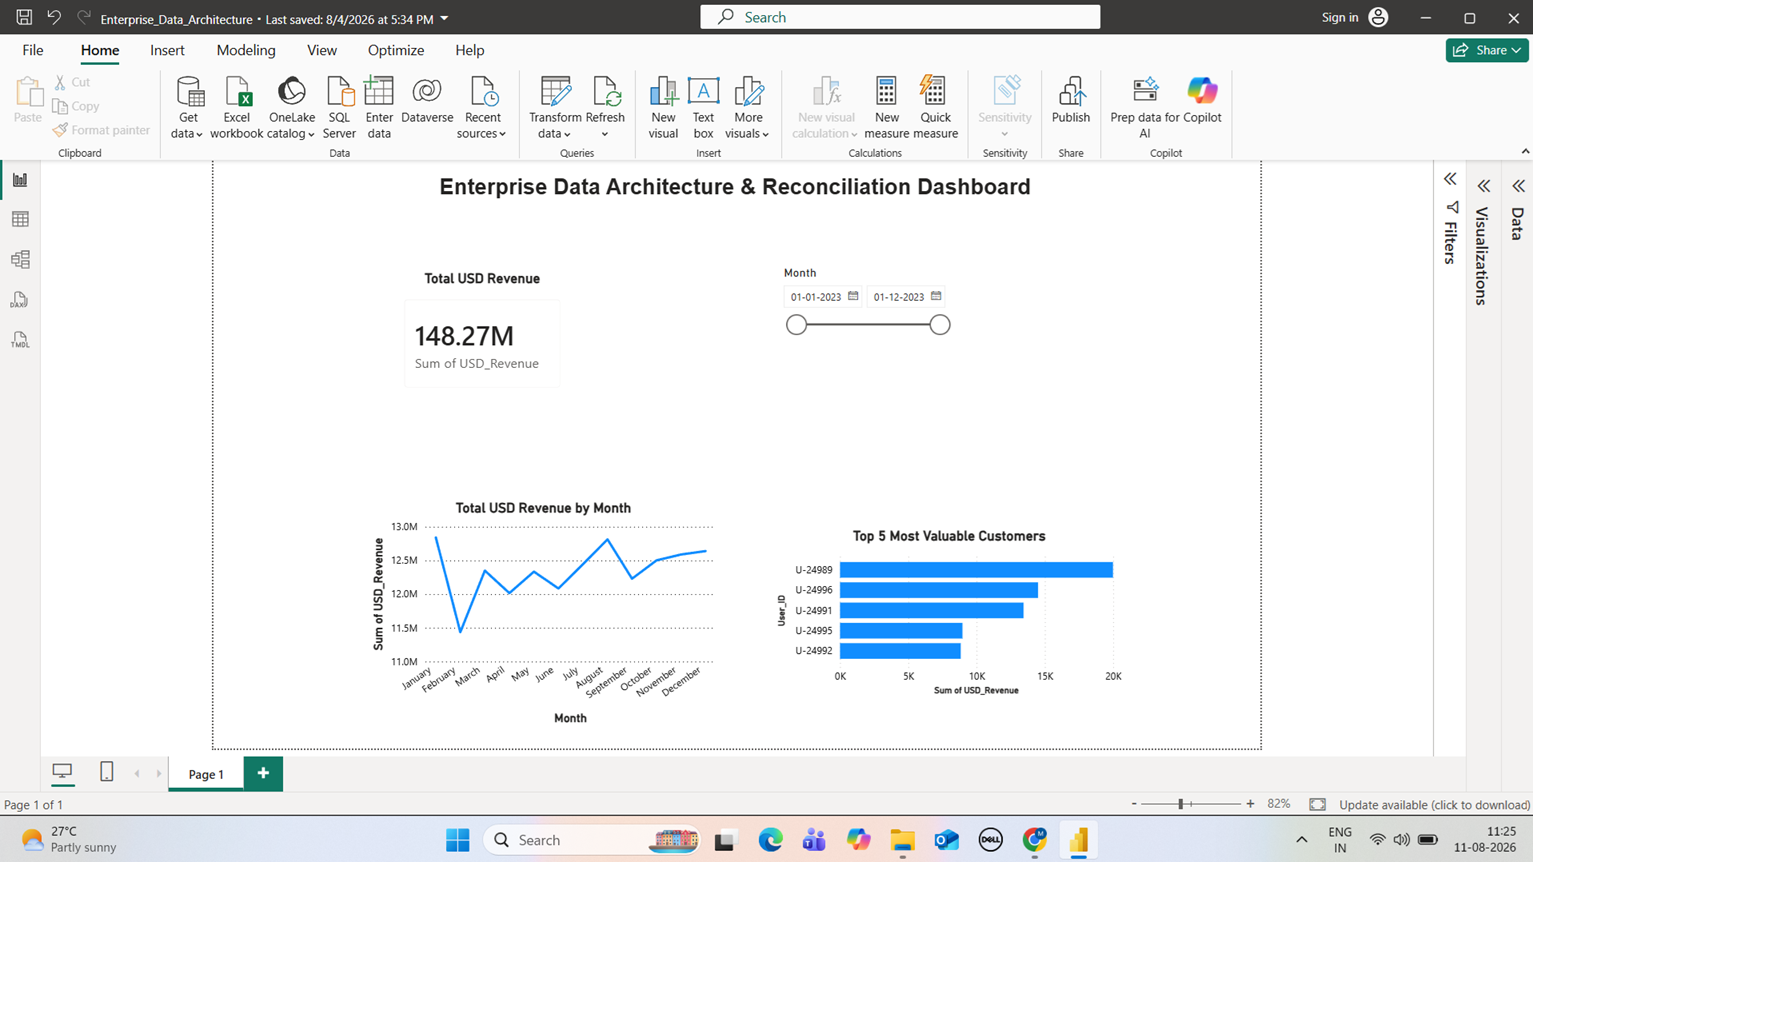

The dashboard page shown, as its layout file describes it:
{"tool":"powerbi","page":{"name":"Page 1","canvas":[1280,720],"ordinal":0},"visuals":[{"type":"cardVisual","title":"Total USD Revenue","fields":{"Data":["Sum(power_bi_ready_dataset.USD_Revenue)"]},"box":[216.8,134.5,225,161.9],"z":0},{"type":"lineChart","title":"Total USD Revenue by Month","fields":{"Category":["power_bi_ready_dataset.Month.Variation.Date Hierarchy.Month"],"Y":["Sum(power_bi_ready_dataset.USD_Revenue)"]},"box":[188,415.8,430.9,279.9],"z":1000},{"type":"clusteredBarChart","title":"Top 5 Most Valuable Customers","fields":{"Category":["power_bi_ready_dataset.User_ID"],"Y":["Sum(power_bi_ready_dataset.USD_Revenue)"]},"box":[684.7,450.1,430.9,209.9],"z":2000},{"type":"slicer","fields":{"Values":["power_bi_ready_dataset.Month"]},"box":[684.7,124.9,225,161.9],"z":3000},{"type":"textbox","box":[38.4,13.7,1200.7,111.1],"z":4000}]}

Visuals, with their boxes on the page's 1280x720 design canvas (x1, y1, x2, y2). These are canvas units, not pixel positions in the 1792x1033 screenshot, which may show the page scaled, cropped or inside an application window:
"Total USD Revenue" cardVisual: <region>217, 134, 442, 296</region>
"Total USD Revenue by Month" lineChart: <region>188, 416, 619, 696</region>
"Top 5 Most Valuable Customers" clusteredBarChart: <region>685, 450, 1116, 660</region>
slicer - power_bi_ready_dataset.Month: <region>685, 125, 910, 287</region>
textbox: <region>38, 14, 1239, 125</region>
